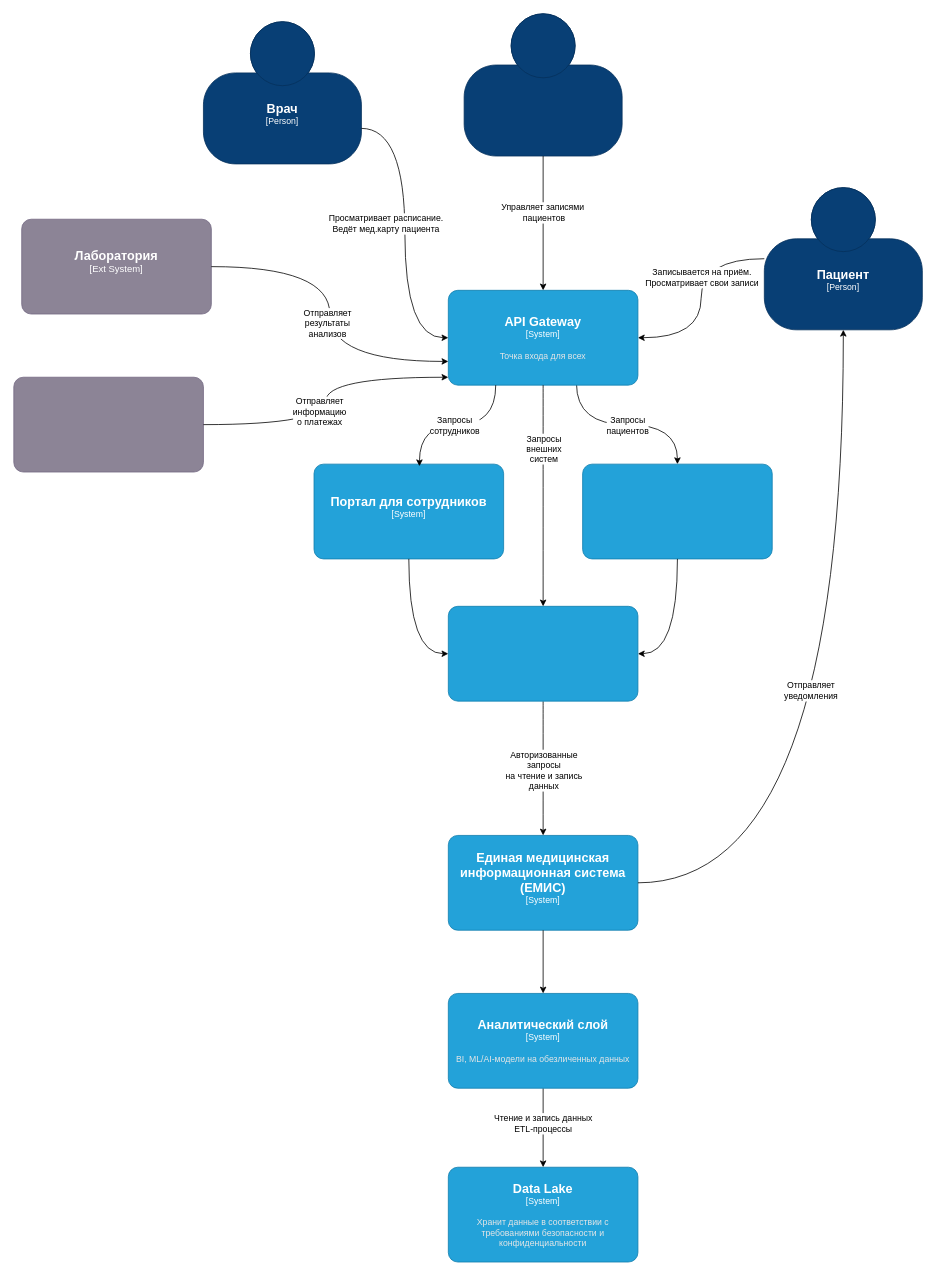
The diagram is 936 pixels wide and 1276 high, and some of its shapes have lost their labels. Each missing label, with the centre of its shape:
IAM Сервис [System] Управляет доступом: [543,653]
Платежный шлюз [Ext System]: [108,424]
Портал пациента [System]: [677,511]
Сотрудник ресепшен [Person]: [542,84]
